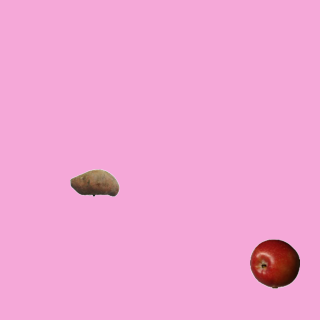Apple Braeburn: (249, 238, 299, 288)
Potato Sweet: (69, 157, 119, 207)
